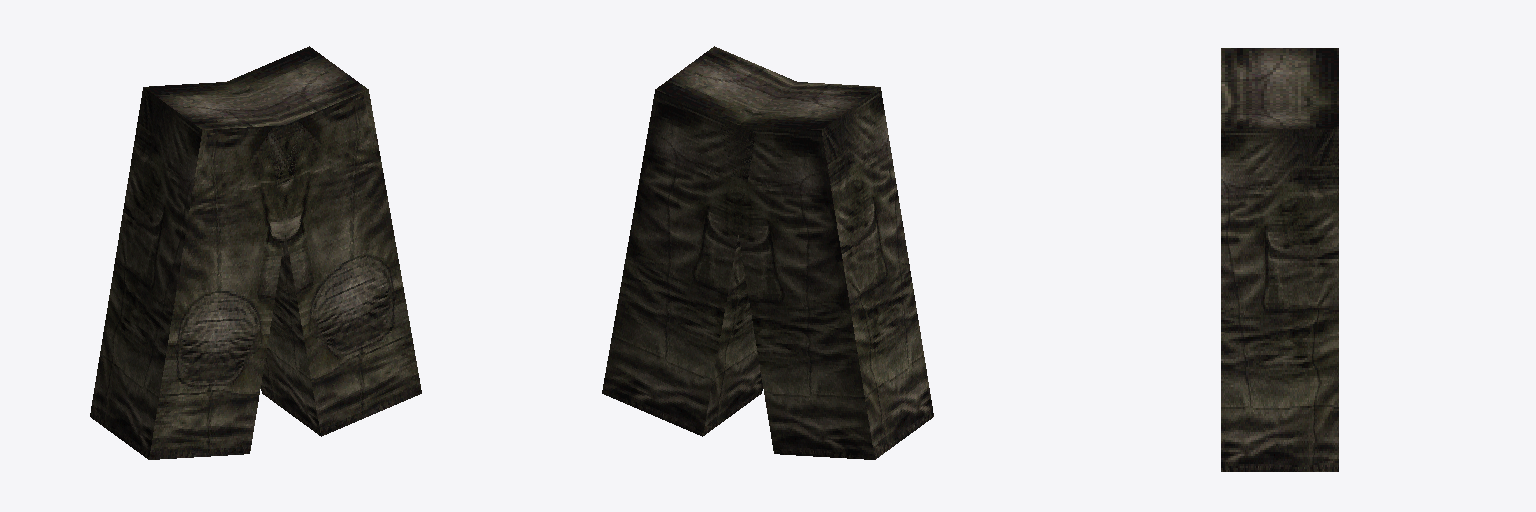
3 renders of one model, left to right at view 1: azimuth 30°, elevation 25°; view 2: azimuth 150°, elevation 25°; view 3: azimuth 270°, elevation 25°, orthographic.
Visible parts, largest first — view 1: arm_jacket_arm_Cube.001; view 2: arm_jacket_arm_Cube.001; view 3: arm_jacket_arm_Cube.001.
Boxes of the visible parts, x1,y1,x2,y2 form: arm_jacket_arm_Cube.001: [90, 46, 421, 459]; arm_jacket_arm_Cube.001: [602, 46, 933, 459]; arm_jacket_arm_Cube.001: [1221, 48, 1338, 471].
Size of the model in its own units: 2.66 by 3.13 by 1.
1 materials, 1 textured.